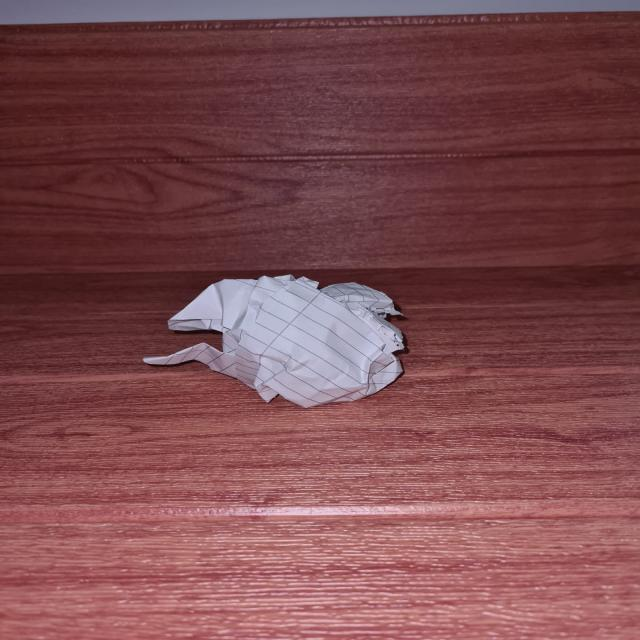Paper: (145, 278, 412, 408)
